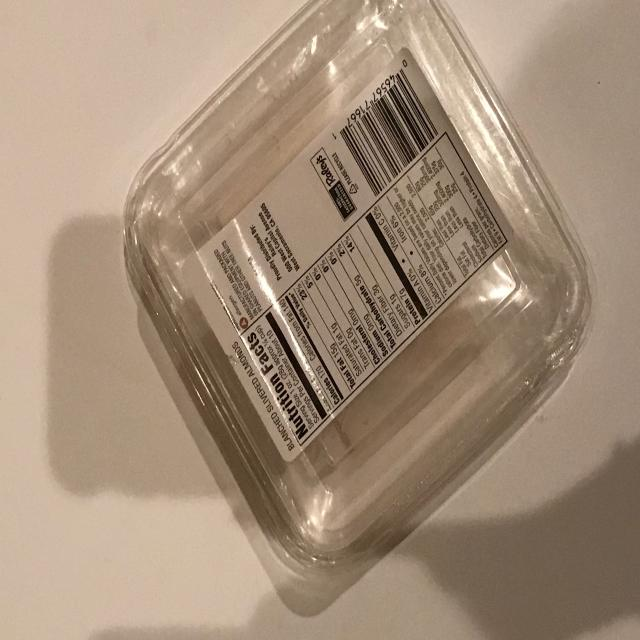plastic: (121, 0, 595, 601)
